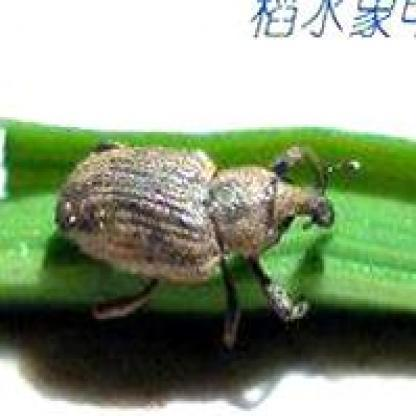rice-bug: (53, 141, 336, 320)
